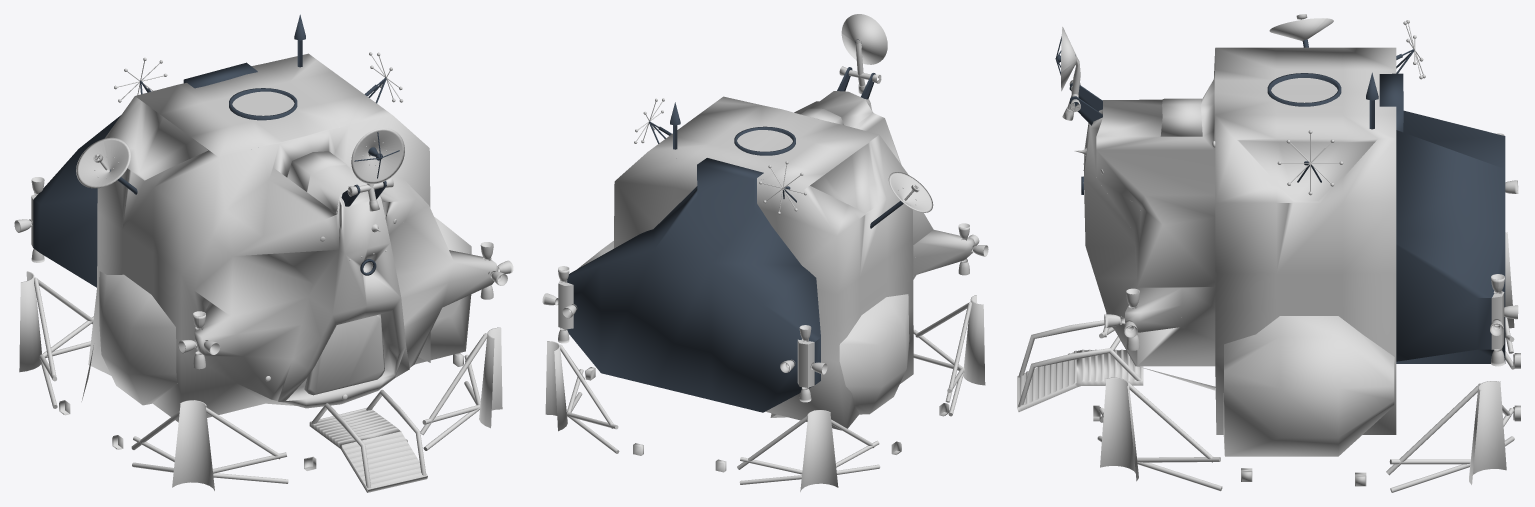
Rendered from lm-ascent.glb.
The picture shows the model from 3 angles, left to right: view 1: azimuth 30°, elevation 25°; view 2: azimuth 150°, elevation 25°; view 3: azimuth 270°, elevation 25°; orthographic projection. The views are drawn at different scales.
Visible parts, largest first — view 1: polySurfac, pCylinde10, pCube2, pCube3, pCube27, group75 pP, pCylinder9, group51 g5, group51 14, group75 11, group75 p9, pPipe1 (+3 smaller); view 2: polySurfac, pCube2, pCylinde10, group75 11, group51 g5, group75 pP, group75 10, group51 14, pCylinder5, pCylinder4, pPipe1; view 3: polySurfac, pCube2, pCylinder9, pCube3, group75 p9, group75 10, pCylinder2, group51 14, pPipe1, pCylinde11, group75 p3, group51 g5 (+2 smaller).
Part boxes in pixels (x1=…): polySurfac: x1=88, y1=53, x2=498, y2=422; pCylinde10: x1=81, y1=271, x2=177, y2=405; pCube2: x1=33, y1=62, x2=257, y2=287; pCube3: x1=309, y1=408, x2=427, y2=492; pCube27: x1=304, y1=314, x2=384, y2=395; group75 pP: x1=172, y1=400, x2=214, y2=490; pCylinder9: x1=414, y1=217, x2=471, y2=364; group51 g5: x1=351, y1=128, x2=404, y2=184; group51 14: x1=76, y1=137, x2=130, y2=188; group75 11: x1=19, y1=271, x2=41, y2=372; group75 p9: x1=479, y1=327, x2=502, y2=428; pPipe1: x1=229, y1=88, x2=297, y2=120; polySurfac: x1=614, y1=91, x2=975, y2=430; pCube2: x1=567, y1=158, x2=820, y2=412; pCylinde10: x1=770, y1=294, x2=909, y2=417; group75 11: x1=800, y1=410, x2=838, y2=491; group51 g5: x1=841, y1=14, x2=887, y2=64; group75 pP: x1=963, y1=295, x2=985, y2=385; group75 10: x1=545, y1=341, x2=567, y2=431; group51 14: x1=888, y1=172, x2=933, y2=212; pCylinder5: x1=797, y1=339, x2=814, y2=387; pCylinder4: x1=558, y1=281, x2=573, y2=329; pPipe1: x1=734, y1=126, x2=795, y2=155; polySurfac: x1=1084, y1=47, x2=1396, y2=434; pCube2: x1=1379, y1=73, x2=1505, y2=363; pCylinder9: x1=1223, y1=316, x2=1394, y2=456; pCube3: x1=1017, y1=349, x2=1143, y2=411; group75 p9: x1=1100, y1=377, x2=1138, y2=481; group75 10: x1=1469, y1=381, x2=1506, y2=484; pCylinder2: x1=1018, y1=348, x2=1141, y2=406; group51 14: x1=1269, y1=18, x2=1333, y2=40; pPipe1: x1=1267, y1=73, x2=1341, y2=106; pCylinde11: x1=1018, y1=320, x2=1113, y2=377; group75 p3: x1=1386, y1=383, x2=1479, y2=475; group51 g5: x1=1061, y1=27, x2=1077, y2=91.
Bounding box in the file's own units: 3.37 × 2.99 × 3.61.
